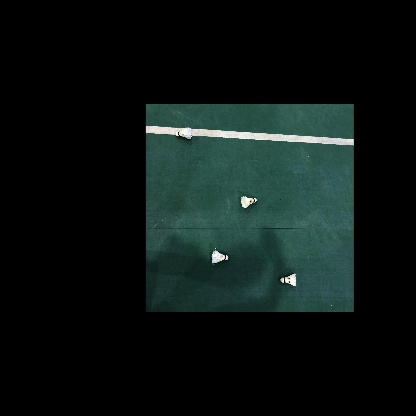ball_single: (211, 250, 228, 264), (176, 127, 193, 139), (280, 274, 297, 286), (241, 196, 257, 208)
